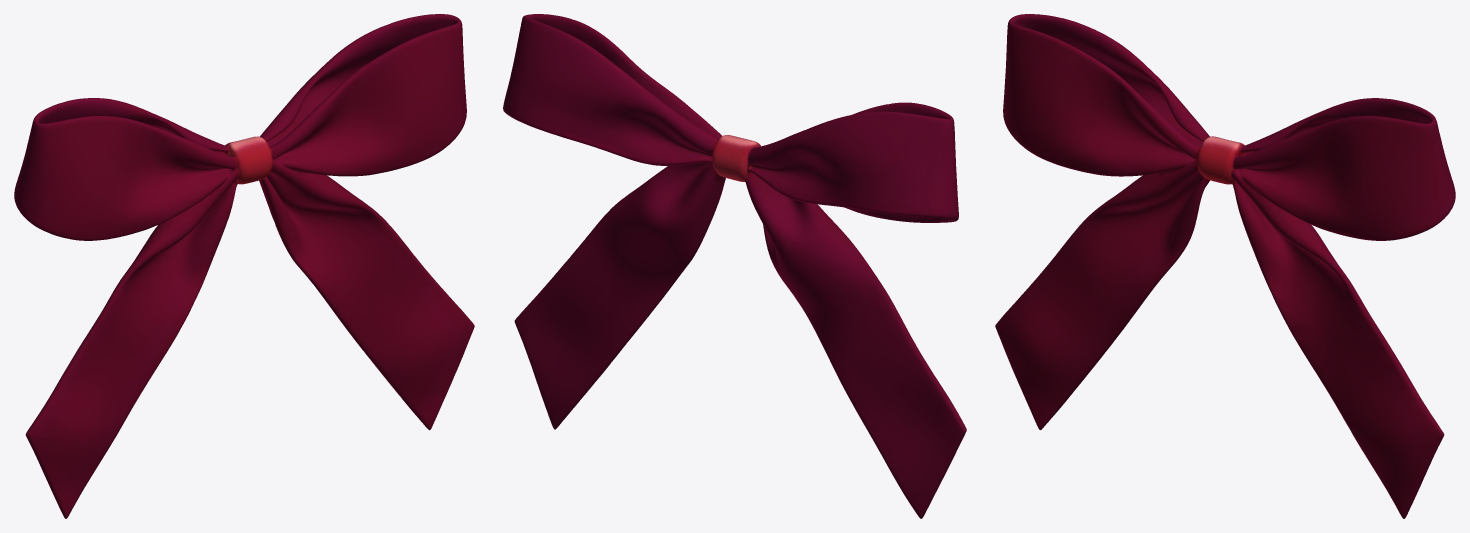
File: satin_bow_red.glb
The picture shows the model from 3 angles, left to right: view 1: azimuth 30°, elevation 25°; view 2: azimuth 150°, elevation 25°; view 3: azimuth 330°, elevation 25°; orthographic projection.
Size of the model in its own units: 1.9 by 1.65 by 0.3136.
1 material, 1 textured.
